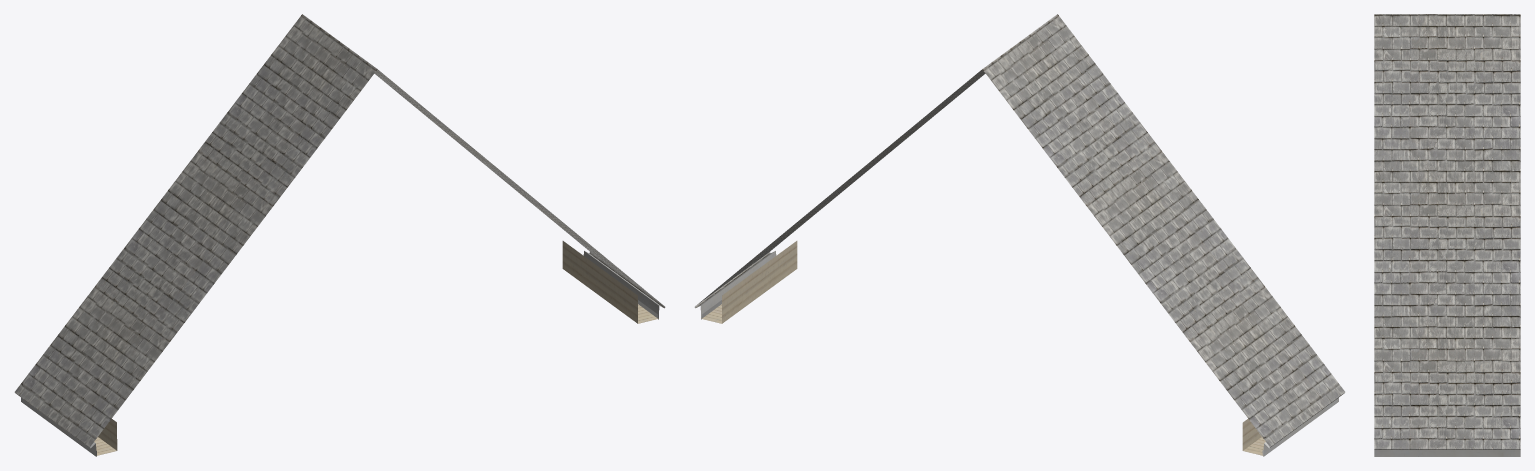
Rendered from Roof_8x_COL.FBX.
The picture shows the model from 3 angles, left to right: view 1: azimuth 30°, elevation 25°; view 2: azimuth 150°, elevation 25°; view 3: azimuth 270°, elevation 25°; orthographic projection. The views are drawn at different scales.
Parts seen in each view (by area): view 1: Roof_8x_COL; view 2: Roof_8x_COL; view 3: Roof_8x_COL.
Boxes of the visible parts, bbox=[...] form: Roof_8x_COL: bbox=[14, 14, 665, 456]; Roof_8x_COL: bbox=[694, 14, 1345, 456]; Roof_8x_COL: bbox=[1374, 14, 1520, 456].
Size of the model in its own units: 884 by 468 by 201.
